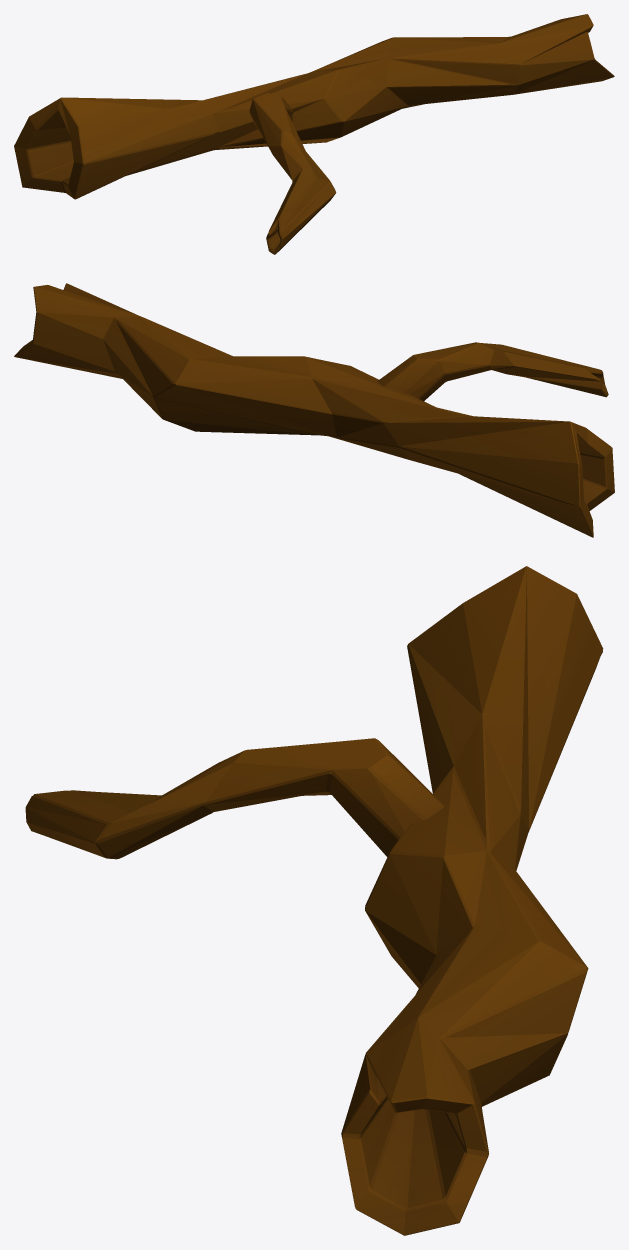
File: branch_fork.glb
The picture shows the model from 3 angles, top to bottom: view 1: azimuth 30°, elevation 25°; view 2: azimuth 150°, elevation 25°; view 3: azimuth 270°, elevation 25°; orthographic projection. The views are drawn at different scales.
Parts seen in each view (by area): view 1: Wooden Log_2_1_A; view 2: Wooden Log_2_1_A; view 3: Wooden Log_2_1_A.
Part boxes in pixels (bbox=[...]): Wooden Log_2_1_A: bbox=[14, 14, 614, 254]; Wooden Log_2_1_A: bbox=[14, 283, 614, 537]; Wooden Log_2_1_A: bbox=[25, 566, 603, 1235].
Bounding box in the file's own units: 0.8 × 0.13 × 0.37.
Materials: 1 (1 with a texture image).
